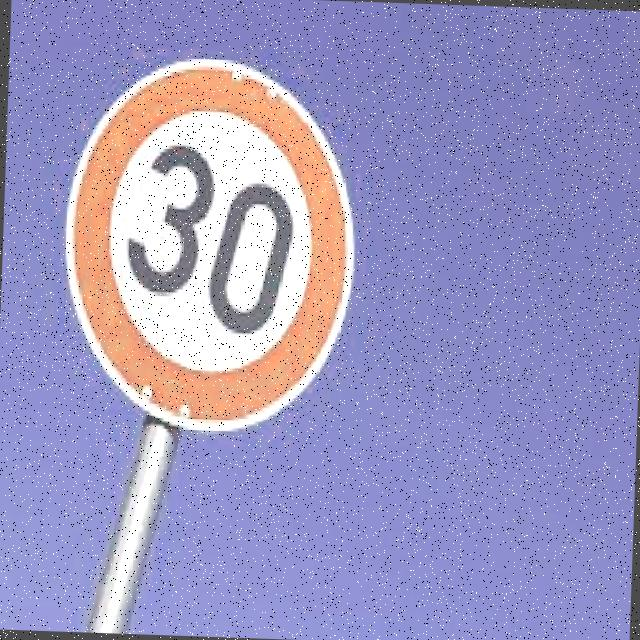Ograniczenie predkosci do 30: (59, 57, 363, 438)
